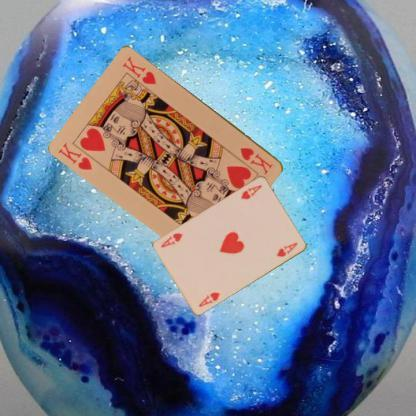Ah: (196, 289, 221, 308), (238, 182, 263, 200)
Kh: (56, 140, 94, 172), (238, 145, 274, 176)
